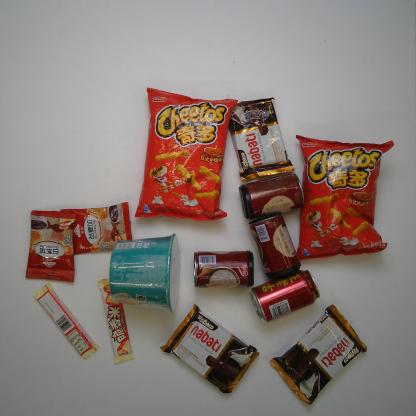Canned Food: (234, 164, 307, 223), (246, 209, 303, 284), (191, 246, 256, 290)
Chocolate: (30, 281, 102, 363), (98, 274, 137, 368)
Dessert: (267, 301, 371, 407), (157, 300, 263, 396), (223, 92, 297, 186)
Drink: (247, 264, 323, 324)
Instant Drink: (58, 197, 134, 257), (21, 208, 79, 285)
Instant Noodles: (106, 230, 185, 317)
Puffed Food: (131, 81, 239, 224), (290, 129, 396, 261)
